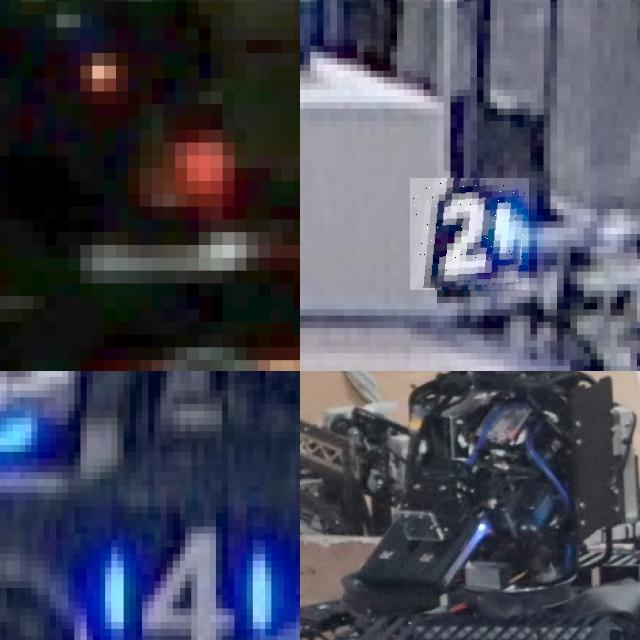B2: (410, 178, 530, 290)
B4: (74, 499, 277, 640), (0, 371, 83, 465)
